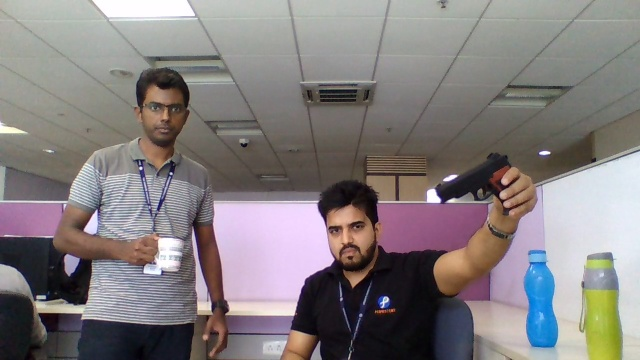gun: (437, 154, 504, 211)
